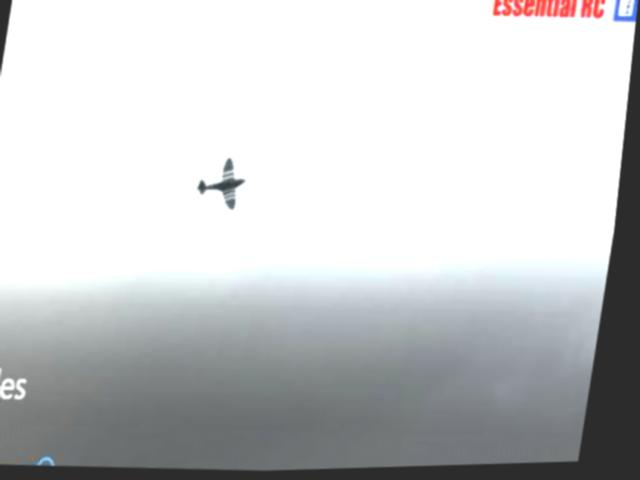uav: (192, 151, 257, 218)
